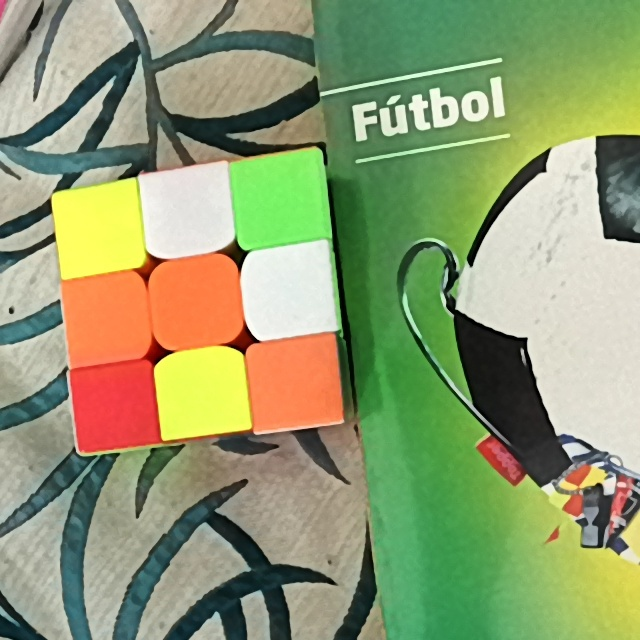tile: (240, 160, 320, 236), (257, 346, 337, 421), (150, 174, 225, 243), (255, 255, 327, 326), (162, 265, 232, 338), (70, 281, 140, 354), (79, 371, 150, 442), (164, 358, 240, 424), (62, 194, 133, 263)
